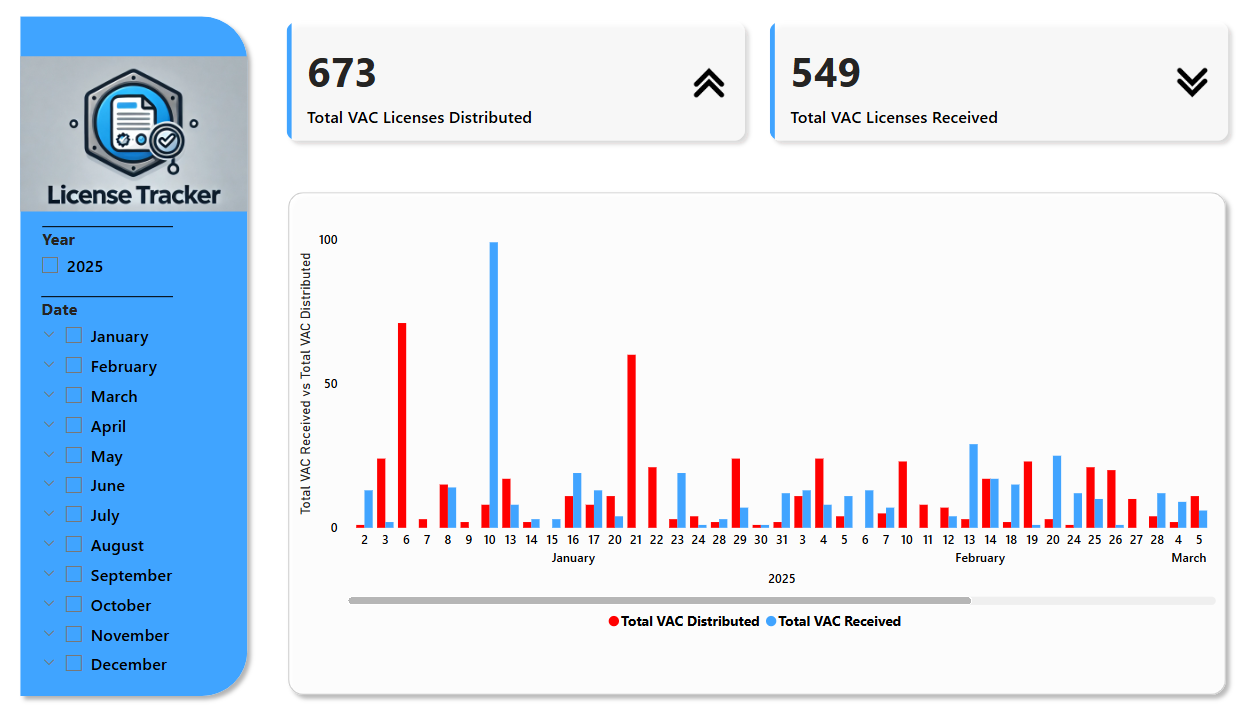

Layout of this report page (visuals, bound fields, positions):
{"tool":"powerbi","page":{"name":"(VAC) License Tracker ","canvas":[1280,720],"ordinal":0},"visuals":[{"type":"shape","box":[304.7,192.3,930,506.9],"z":0},{"type":"shape","box":[43.4,21.7,238.9,679.2],"z":1000},{"type":"clusteredColumnChart","fields":{"Category":["licenses.date_received.Variation.Date Hierarchy.Year","licenses.date_received.Variation.Date Hierarchy.Month","licenses.date_received.Variation.Date Hierarchy.Day"],"Y":["licenses.Total VAC Distributed","licenses.Total VAC Received"]},"box":[318.5,233.5,902.5,403.9],"z":2000},{"type":"slicer","fields":{"Values":["licenses.date_received.Variation.Date Hierarchy.Year"]},"box":[61.1,229.9,152.9,101.5],"z":3000},{"type":"slicer","fields":{"Values":["licenses.date_received.Variation.Date Hierarchy.Month","licenses.date_received.Variation.Date Hierarchy.Day"]},"box":[59.9,297.1,154.1,412.1],"z":4000},{"type":"cardVisual","fields":{"Data":["licenses.Total VAC Distributed","licenses.Total VAC Received"]},"box":[295.2,18.9,950.1,150.1],"z":6000},{"type":"image","box":[47.7,59.9,231.1,170],"z":7000}]}

Visuals, with their boxes in screenshot pixels (x1, y1, x2, y2), scaled from the page's 1280x720 canvas onto the 1249x713 screenshot:
shape: <bbox>297, 190, 1205, 692</bbox>
shape: <bbox>42, 21, 275, 694</bbox>
clusteredColumnChart - licenses.date_received.Variation.Date Hierarchy.Year x licenses.date_received.Variation.Date Hierarchy.Month: <bbox>311, 231, 1191, 631</bbox>
slicer - licenses.date_received.Variation.Date Hierarchy.Year: <bbox>60, 228, 209, 328</bbox>
slicer - licenses.date_received.Variation.Date Hierarchy.Month x licenses.date_received.Variation.Date Hierarchy.Day: <bbox>58, 294, 209, 702</bbox>
cardVisual - licenses.Total VAC Distributed x licenses.Total VAC Received: <bbox>288, 19, 1215, 167</bbox>
image: <bbox>47, 59, 272, 228</bbox>
